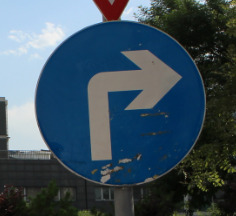right_turn: (34, 20, 205, 186)
